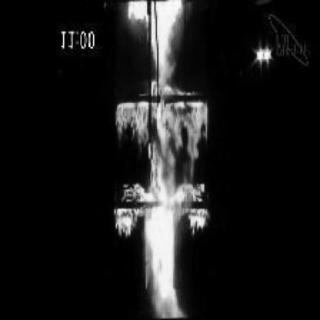Fire: (109, 5, 211, 319)
other: (248, 41, 274, 71)
